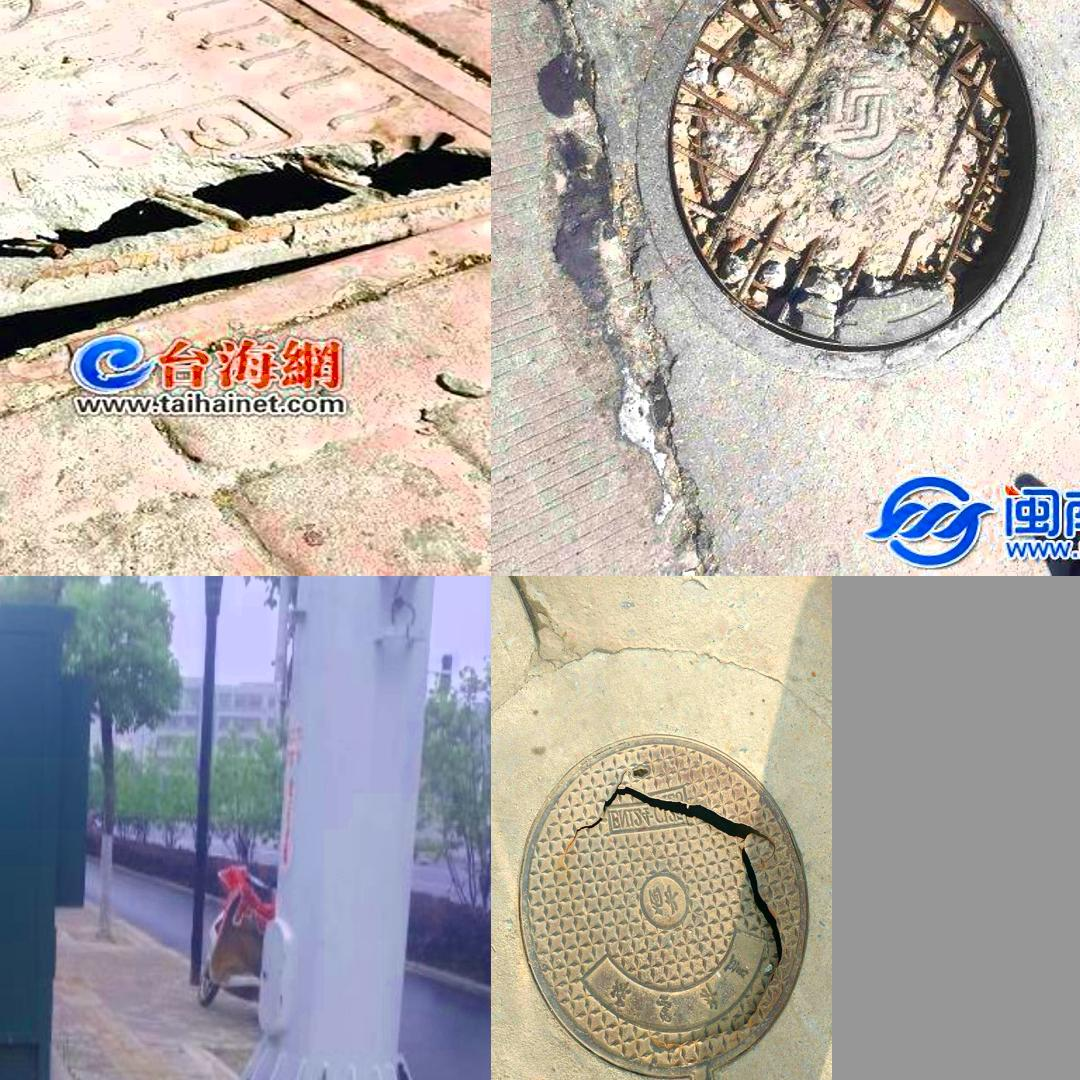broke: (0, 0, 491, 432), (613, 0, 1073, 367), (517, 733, 809, 1080)
